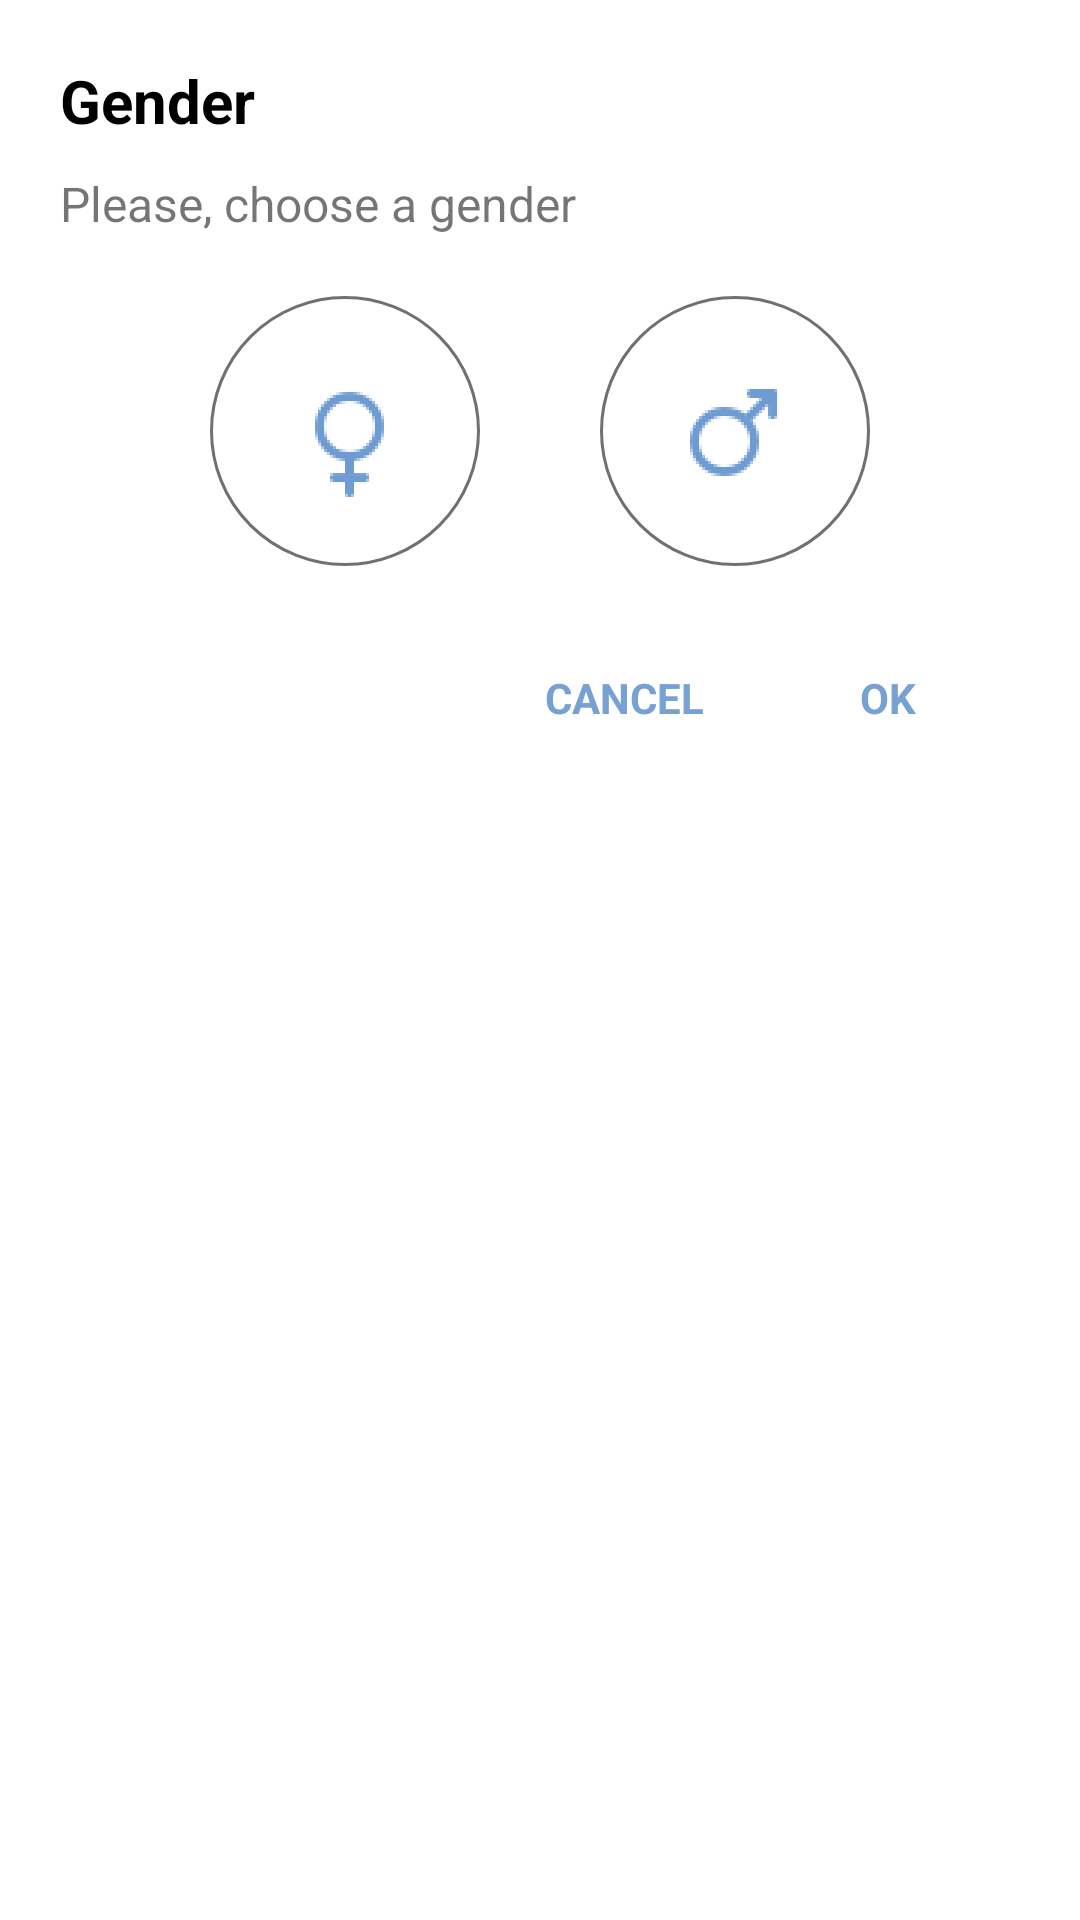

Named icons in this screenshot (1080px×1920px) and their bounding boxes, (x1, y1, x2, y2):
female: (315, 392, 384, 497)
male: (690, 389, 777, 476)
